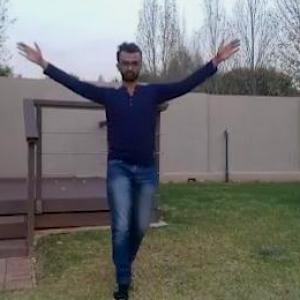takeoff: (15, 40, 230, 277)
